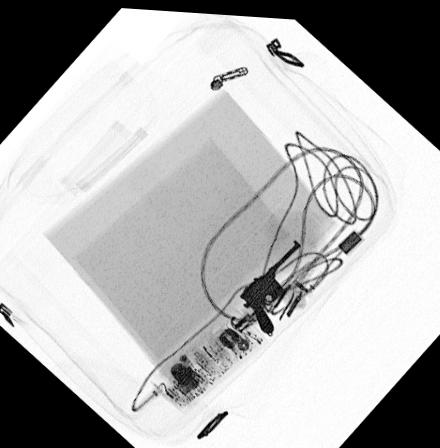Gun: (238, 234, 303, 331)
